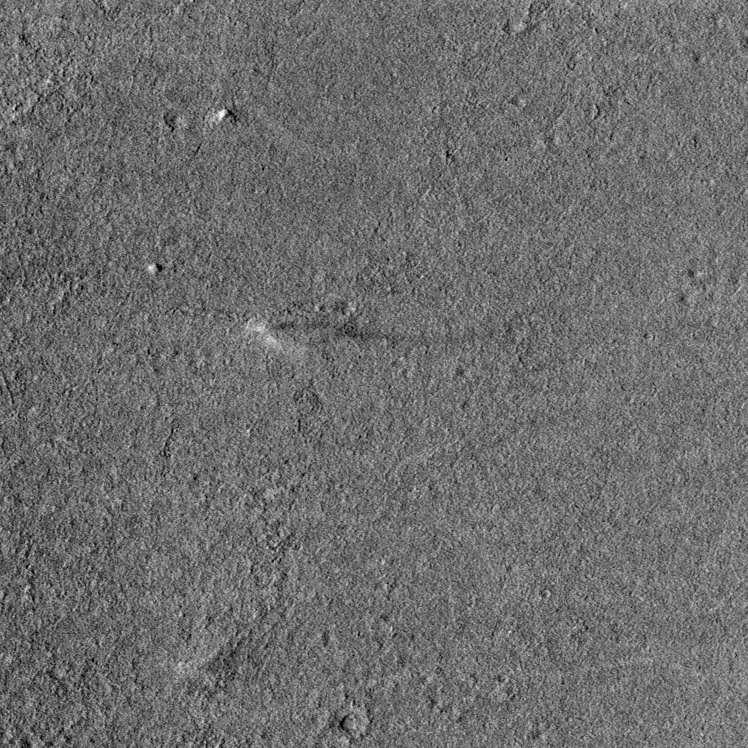dust_devil: (245, 311, 401, 354)
